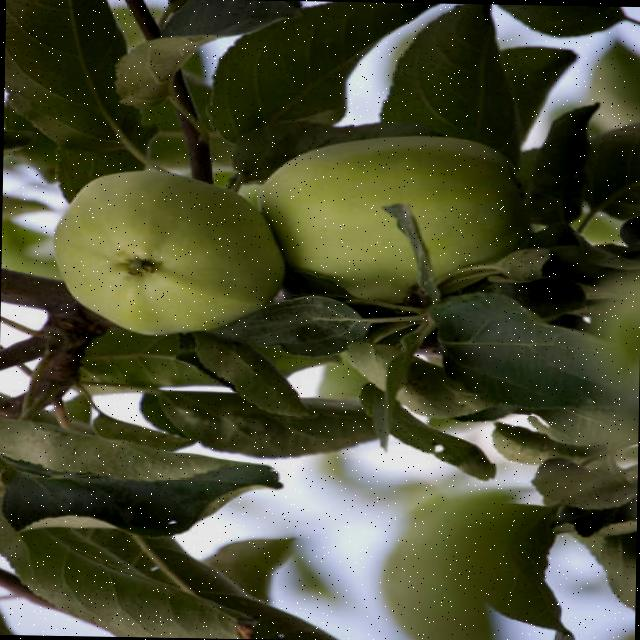Unripe: (256, 131, 529, 308), (47, 166, 283, 336)
